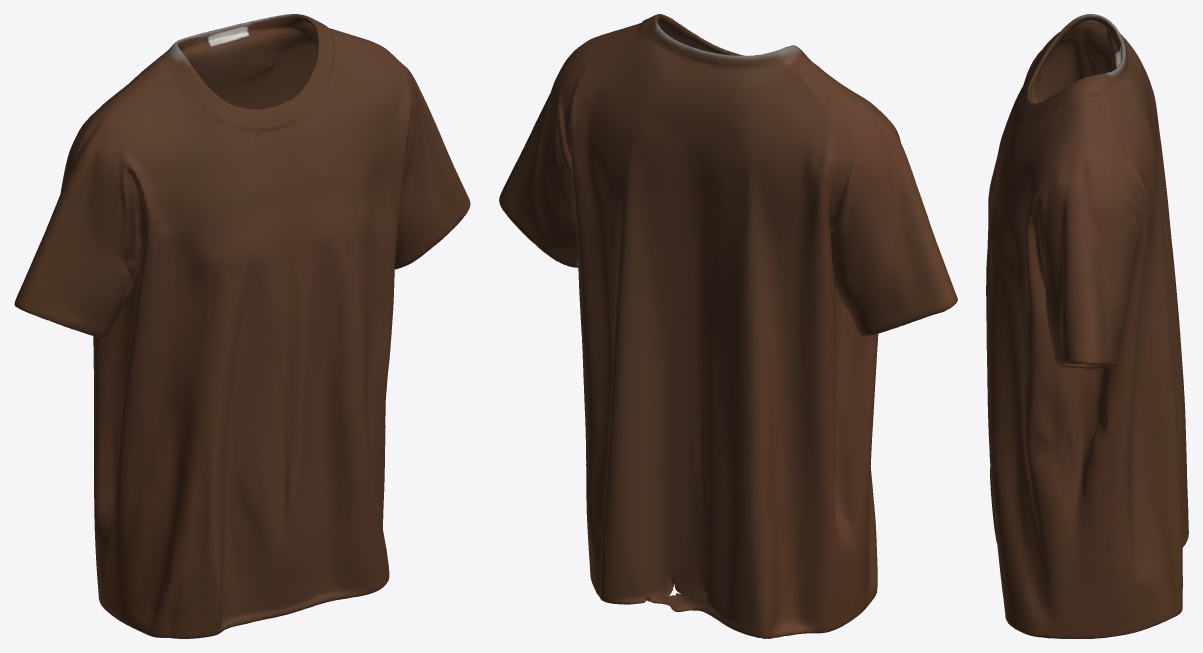
The model's file is zara-basic-slim-fit-t-shirt-01-555813546.glb.
3 renders of one model, left to right at view 1: azimuth 30°, elevation 25°; view 2: azimuth 150°, elevation 25°; view 3: azimuth 270°, elevation 25°, orthographic. The views are drawn at different scales.
Visible parts, largest first — view 1: tripo_node_e9a03df9-ad50-4d2b-b126-fa221d1aa794; view 2: tripo_node_e9a03df9-ad50-4d2b-b126-fa221d1aa794; view 3: tripo_node_e9a03df9-ad50-4d2b-b126-fa221d1aa794.
Boxes of the visible parts, bbox=[...] form: tripo_node_e9a03df9-ad50-4d2b-b126-fa221d1aa794: bbox=[14, 14, 470, 638]; tripo_node_e9a03df9-ad50-4d2b-b126-fa221d1aa794: bbox=[499, 14, 957, 638]; tripo_node_e9a03df9-ad50-4d2b-b126-fa221d1aa794: bbox=[986, 14, 1188, 638].
Size of the model in its own units: 0.8525 by 1 by 0.3418.
1 material, 1 textured.
